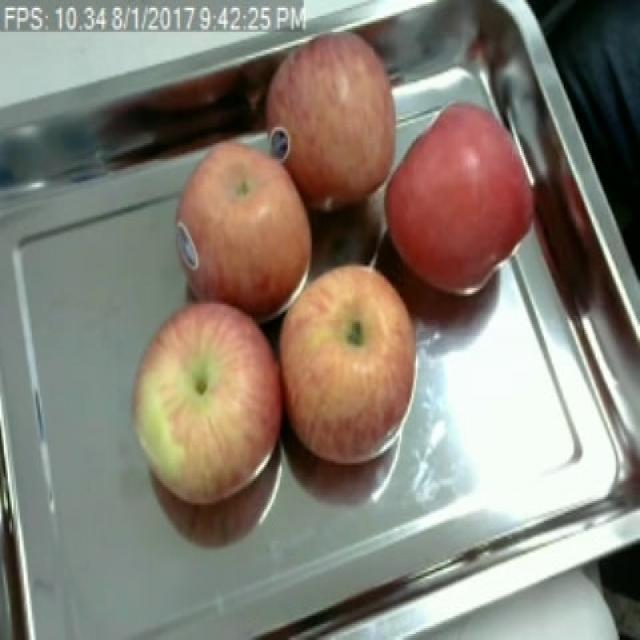Fresh Apple: (375, 100, 540, 302), (134, 307, 274, 523), (285, 255, 415, 470), (248, 32, 408, 200), (178, 152, 308, 313)
